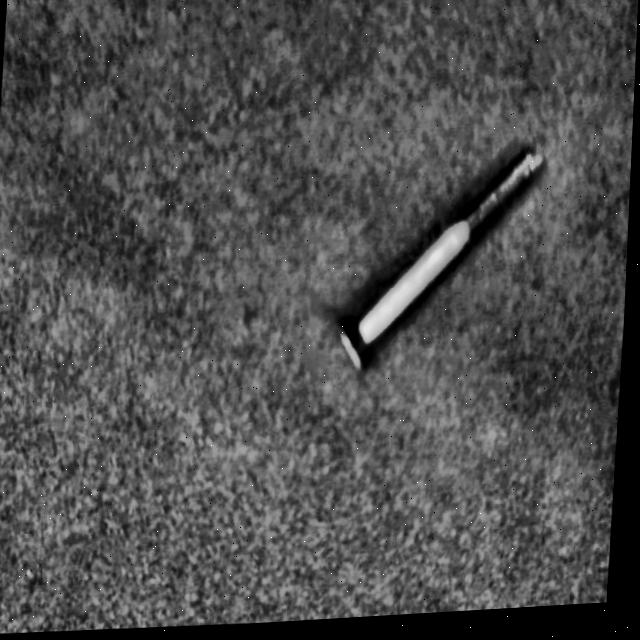Flat head socket screw: (333, 147, 547, 387)
